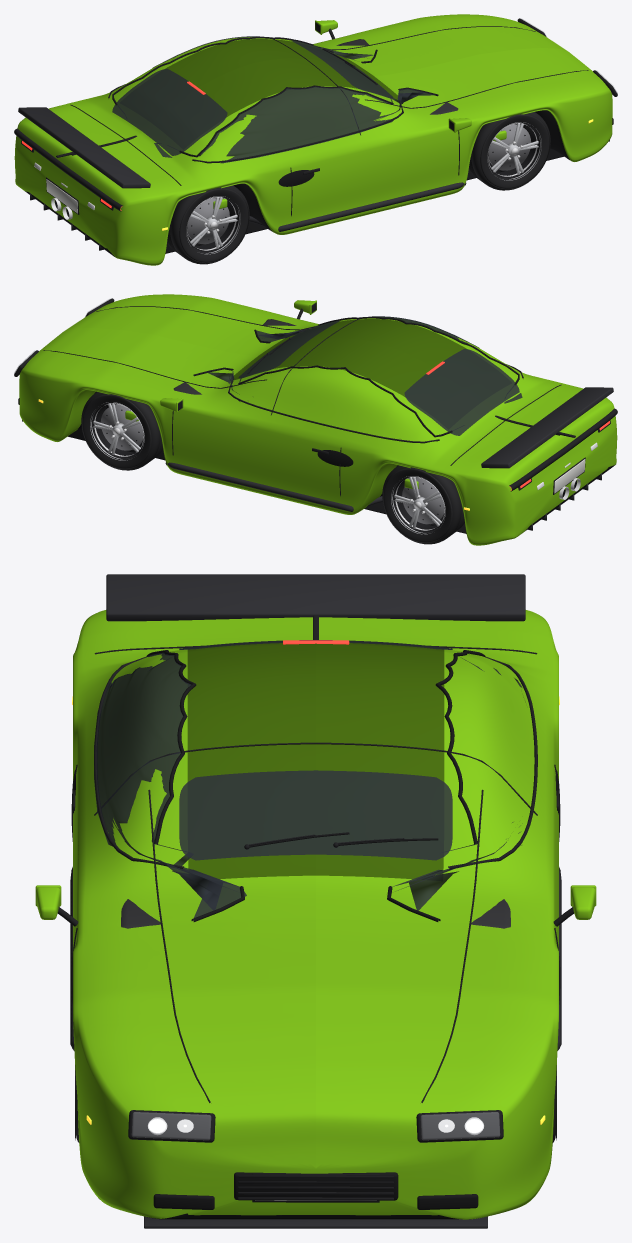
The picture shows the model from 3 angles, top to bottom: view 1: azimuth 30°, elevation 25°; view 2: azimuth 150°, elevation 25°; view 3: azimuth 270°, elevation 25°; orthographic projection. The views are drawn at different scales.
Visible parts, largest first — view 1: body, glass_side_R, glass_screen_1, wing_lip, wheel_RR_tyre, wheel_FR_tyre, side_skirt, glass_screen_0, wheel_RR_disc, wheel_FR_disc, tail_housing, wheel_FR_barrel (+7 smaller); view 2: body, glass_screen_1, wing_lip, wheel_RL_tyre, wheel_FL_tyre, side_skirt.001, glass_screen_0, wheel_RL_disc, wheel_FL_disc, tail_housing, glass_side_R, seal_L.001 (+7 smaller); view 3: body, glass_screen_0, wing_lip, glass_side_R, splitter, grille_back, head_housing, head_housing.001, head_lens, head_lens.001, dashboard, glass_side_L (+7 smaller).
Boxes of the visible parts, bbox=[...] form: body: bbox=[14, 14, 612, 265]; glass_side_R: bbox=[154, 86, 435, 163]; glass_screen_1: bbox=[112, 68, 227, 155]; wing_lip: bbox=[18, 107, 150, 188]; wheel_RR_tyre: bbox=[167, 185, 249, 264]; wheel_FR_tyre: bbox=[468, 112, 550, 190]; side_skirt: bbox=[249, 182, 466, 231]; glass_screen_0: bbox=[292, 40, 393, 98]; wheel_RR_disc: bbox=[187, 198, 229, 244]; wheel_FR_disc: bbox=[488, 124, 531, 170]; tail_housing: bbox=[14, 128, 122, 211]; wheel_FR_barrel: bbox=[488, 122, 539, 178]; body: bbox=[19, 294, 617, 545]; glass_screen_1: bbox=[404, 348, 519, 435]; wing_lip: bbox=[481, 387, 613, 468]; wheel_RL_tyre: bbox=[382, 465, 464, 544]; wheel_FL_tyre: bbox=[81, 392, 163, 470]; side_skirt.001: bbox=[165, 462, 382, 511]; glass_screen_0: bbox=[238, 320, 339, 378]; wheel_RL_disc: bbox=[402, 478, 444, 524]; wheel_FL_disc: bbox=[100, 404, 143, 450]; tail_housing: bbox=[509, 408, 617, 491]; glass_side_R: bbox=[256, 316, 522, 403]; seal_L.001: bbox=[238, 365, 452, 437]; body: bbox=[73, 610, 558, 1219]; glass_screen_0: bbox=[179, 770, 452, 860]; wing_lip: bbox=[106, 574, 525, 621]; glass_side_R: bbox=[94, 652, 246, 917]; splitter: bbox=[144, 1216, 487, 1228]; grille_back: bbox=[234, 1172, 398, 1200]; head_housing: bbox=[128, 1110, 215, 1142]; head_housing.001: bbox=[416, 1110, 503, 1142]; head_lens: bbox=[132, 1112, 210, 1140]; head_lens.001: bbox=[421, 1112, 499, 1140]; dashboard: bbox=[121, 899, 510, 928]; glass_side_L: bbox=[392, 653, 525, 910].
Bounding box in the file's own units: 4.71 × 1.16 × 2.2.
